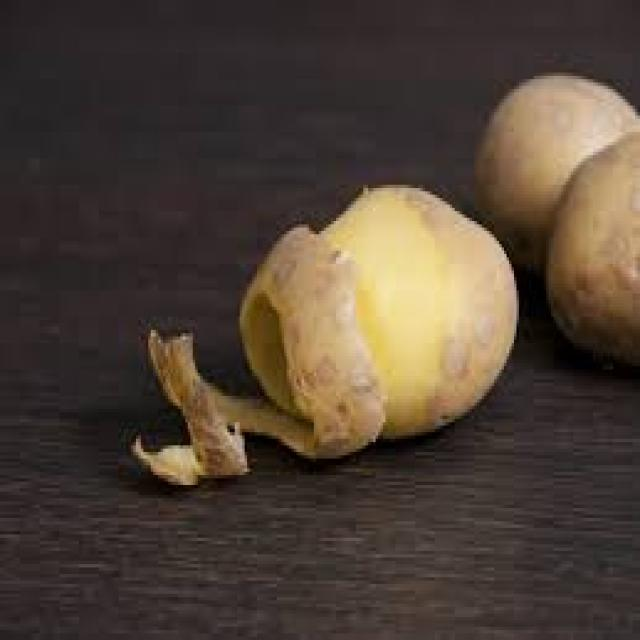Potato: (249, 169, 524, 485)
